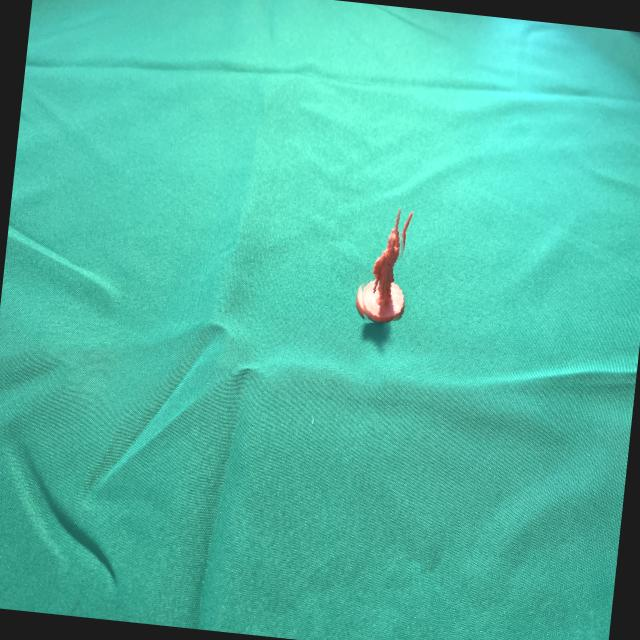amon_follower: (362, 208, 405, 322)
